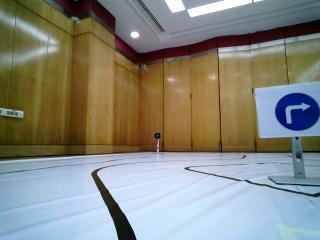right: (260, 89, 320, 130)
